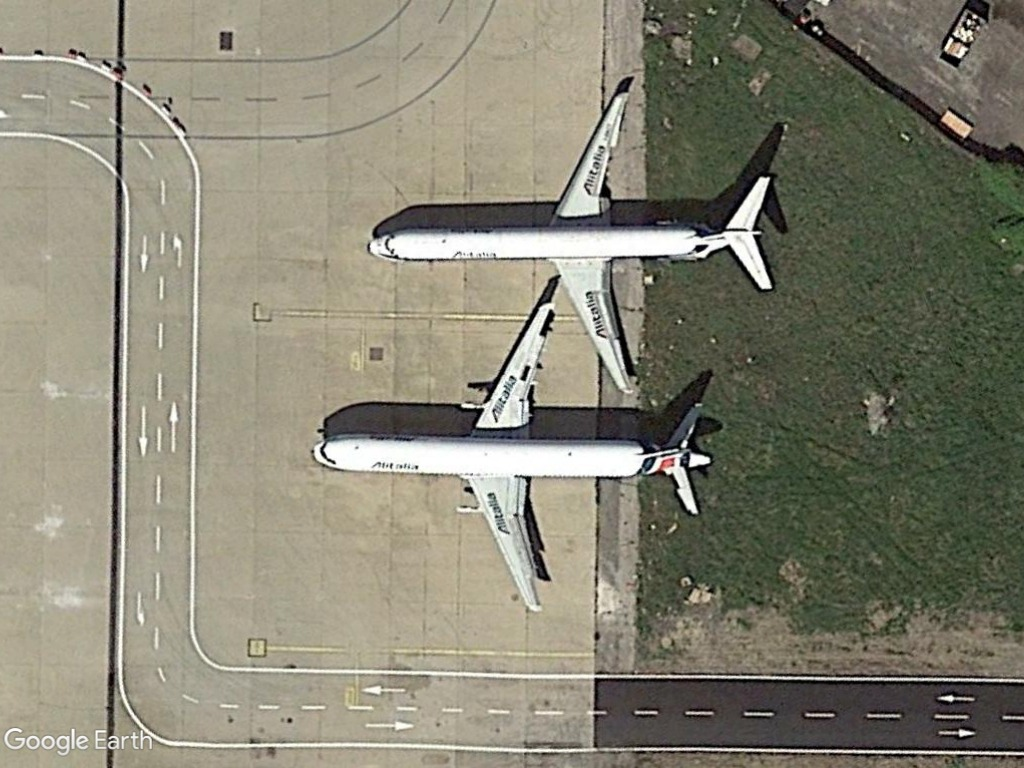airliner: (358, 76, 776, 402), (306, 297, 714, 625)
